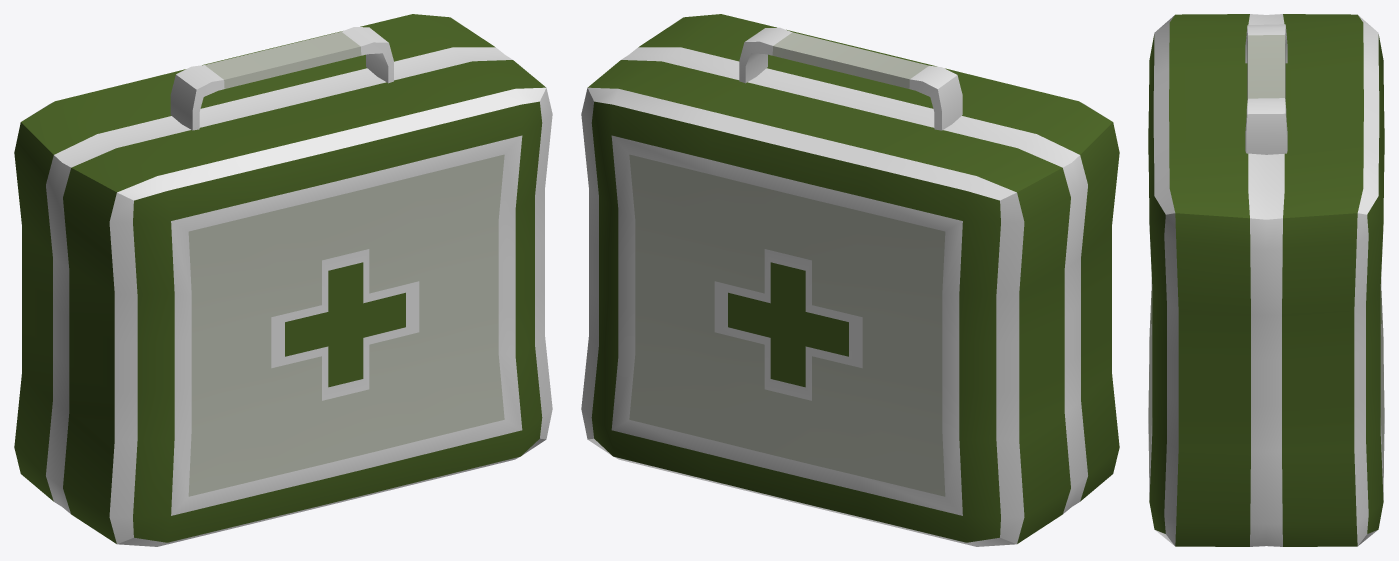
File: Health.fbx
3 renders of one model, left to right at view 1: azimuth 30°, elevation 25°; view 2: azimuth 150°, elevation 25°; view 3: azimuth 270°, elevation 25°, orthographic. The views are drawn at different scales.
Parts seen in each view (by area): view 1: Health; view 2: Health; view 3: Health.
Boxes of the visible parts, x1=… form: Health: x1=14, y1=14, x2=552, y2=546; Health: x1=581, y1=14, x2=1119, y2=546; Health: x1=1148, y1=14, x2=1384, y2=546.
Size of the model in its own units: 86.1 by 73.76 by 40.39.
